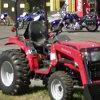Tractor: (4, 16, 93, 100)
